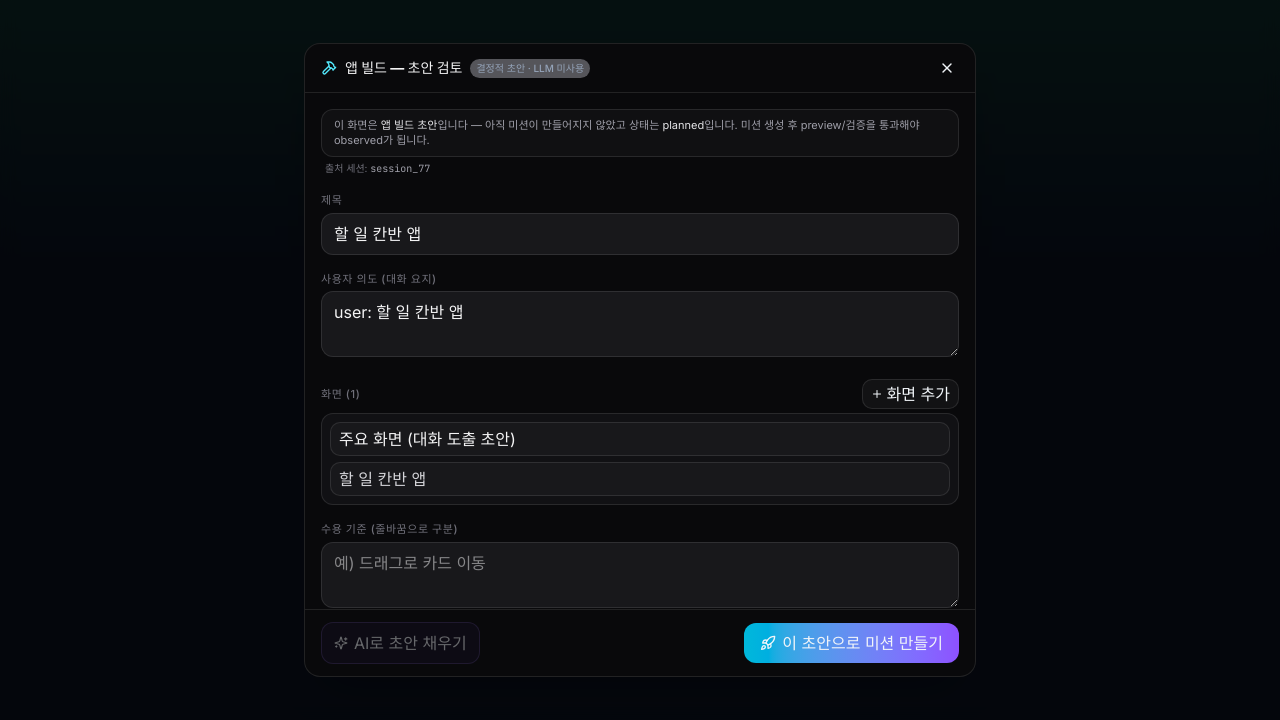
Test case: AppBuildContainer 상호작용 (jsdom) › title 편집 → '미션 만들기' → createMission이 편집값 + sourceSessionId provenance로 호출
The image size is (1280, 720).
Replace the text in the field labelled "제목" with "내가 고친 제목": [640, 234] box top-left (321, 213), bottom-right (959, 255)
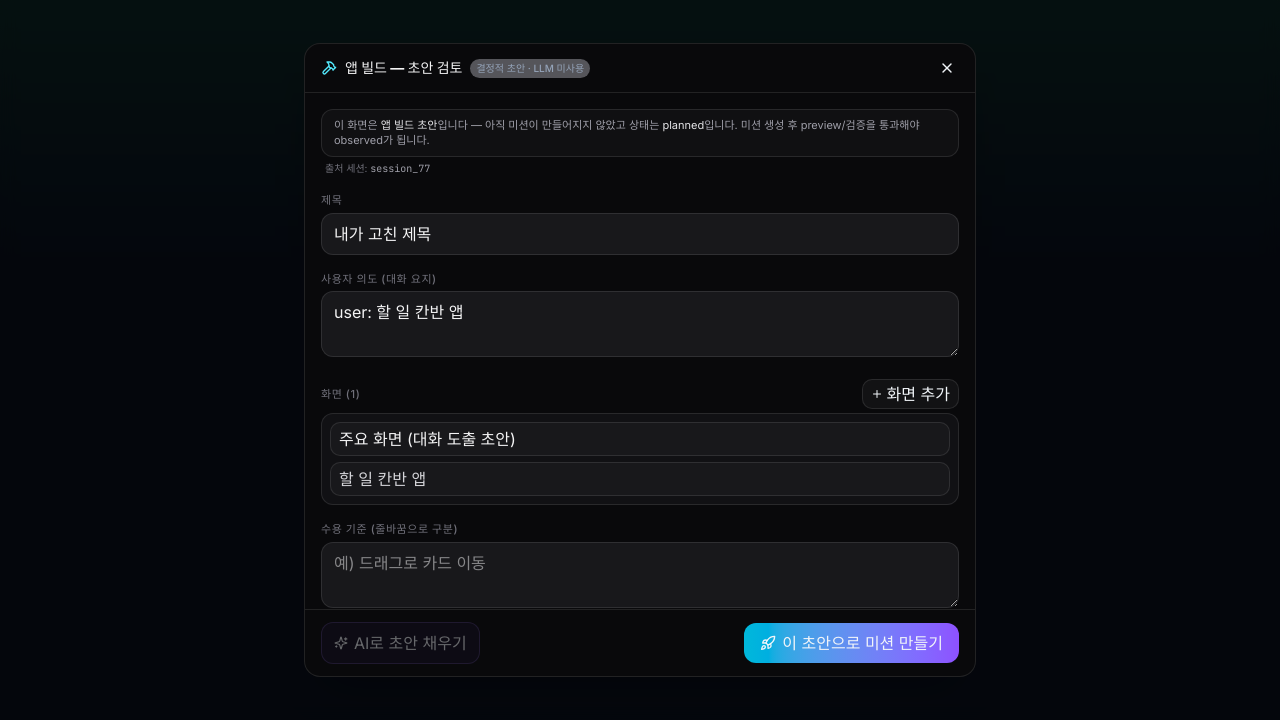
Click the button "이 초안으로 미션 만들기": [852, 643] box top-left (744, 623), bottom-right (959, 663)
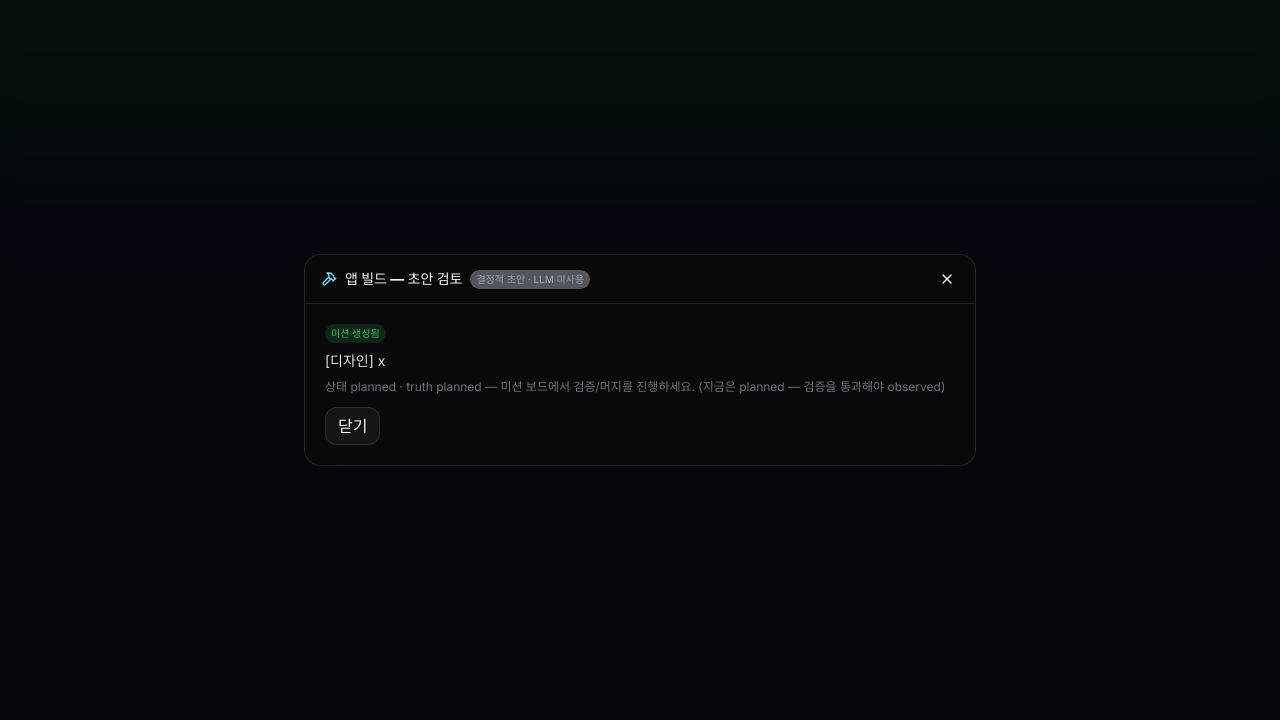
Now the text "미션 생성됨" is shown, box top-left (325, 324), bottom-right (386, 343)
